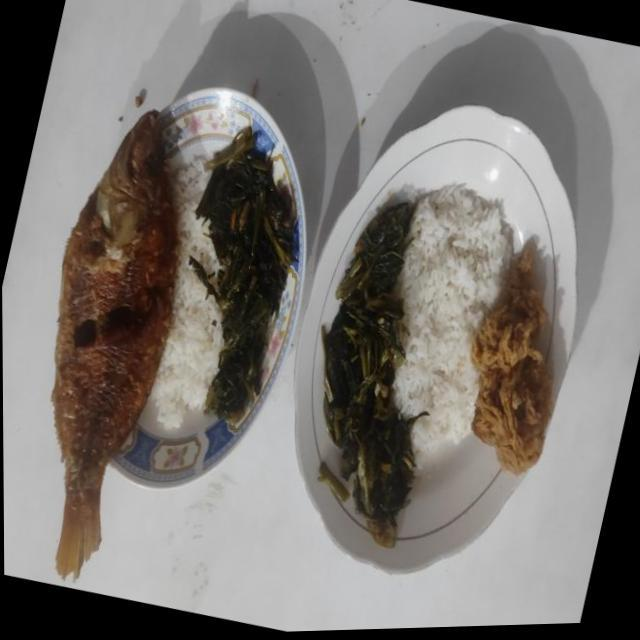ikan_mujair: (51, 110, 178, 578)
nasi_putih: (393, 184, 513, 461), (148, 160, 222, 430)
tumis_kangkung: (321, 202, 428, 547), (189, 126, 298, 420)
